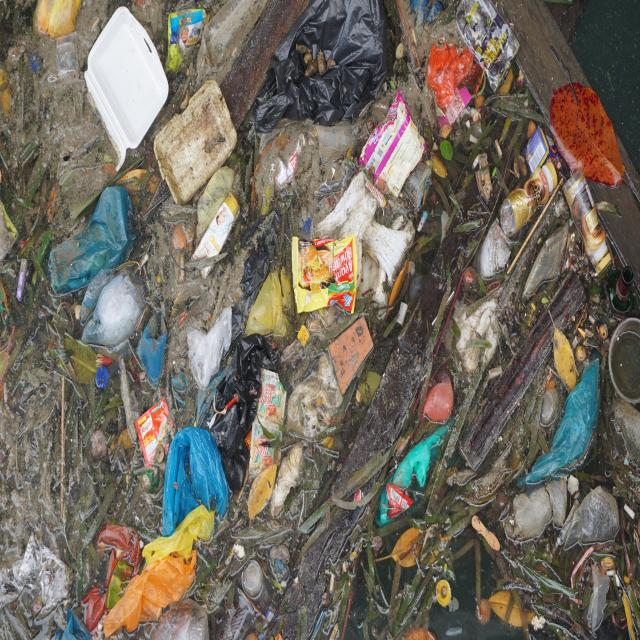Botol Plastik: (563, 167, 615, 281), (502, 160, 560, 240), (94, 365, 112, 392)
Bungkus Makanan: (83, 7, 172, 173), (152, 77, 246, 199), (360, 91, 428, 201), (291, 233, 359, 322), (456, 2, 522, 93), (135, 399, 177, 474)
Bungkus Minuman: (249, 367, 289, 482)
Kantong Plastik: (85, 522, 202, 640), (48, 186, 141, 309), (528, 352, 607, 492), (163, 422, 237, 546), (137, 507, 219, 566), (248, 267, 299, 349)
